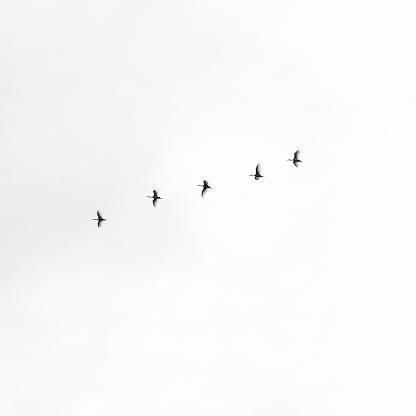bird: (145, 189, 164, 207), (248, 163, 265, 181), (287, 150, 303, 167), (92, 211, 108, 227), (197, 180, 212, 197)
